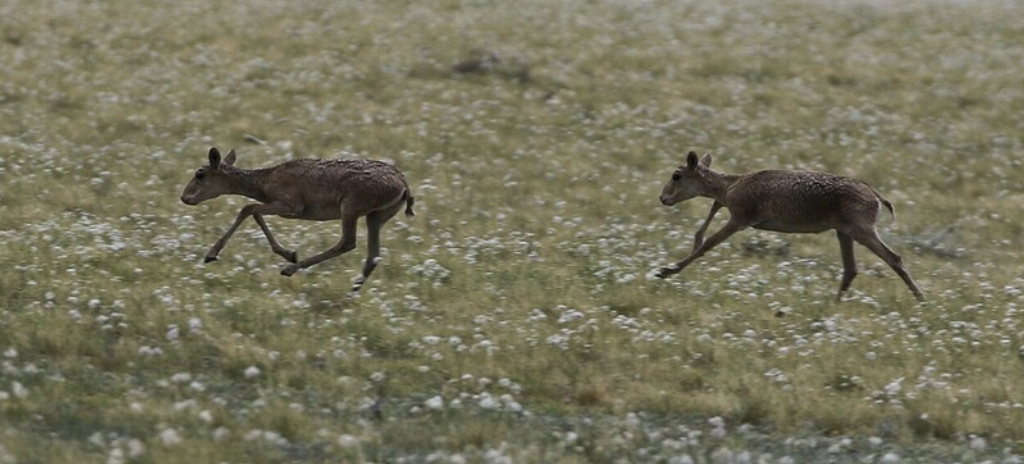saiga: (647, 129, 930, 320), (167, 120, 424, 289)
